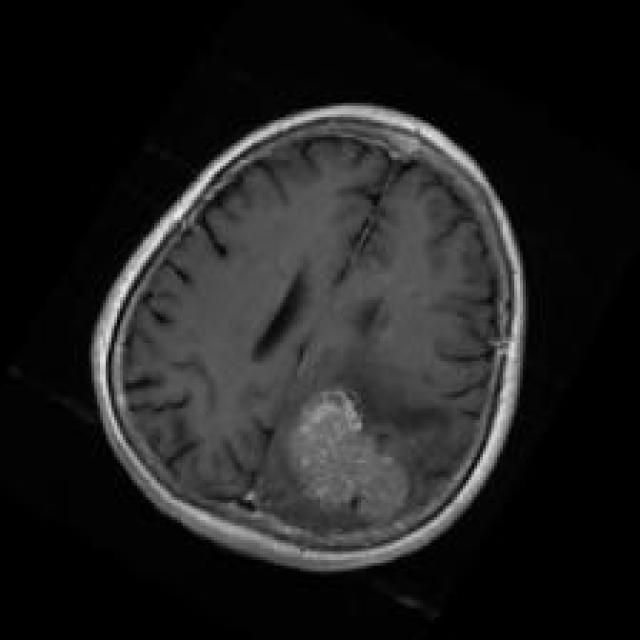meningioma_tumor: (266, 377, 428, 545)
